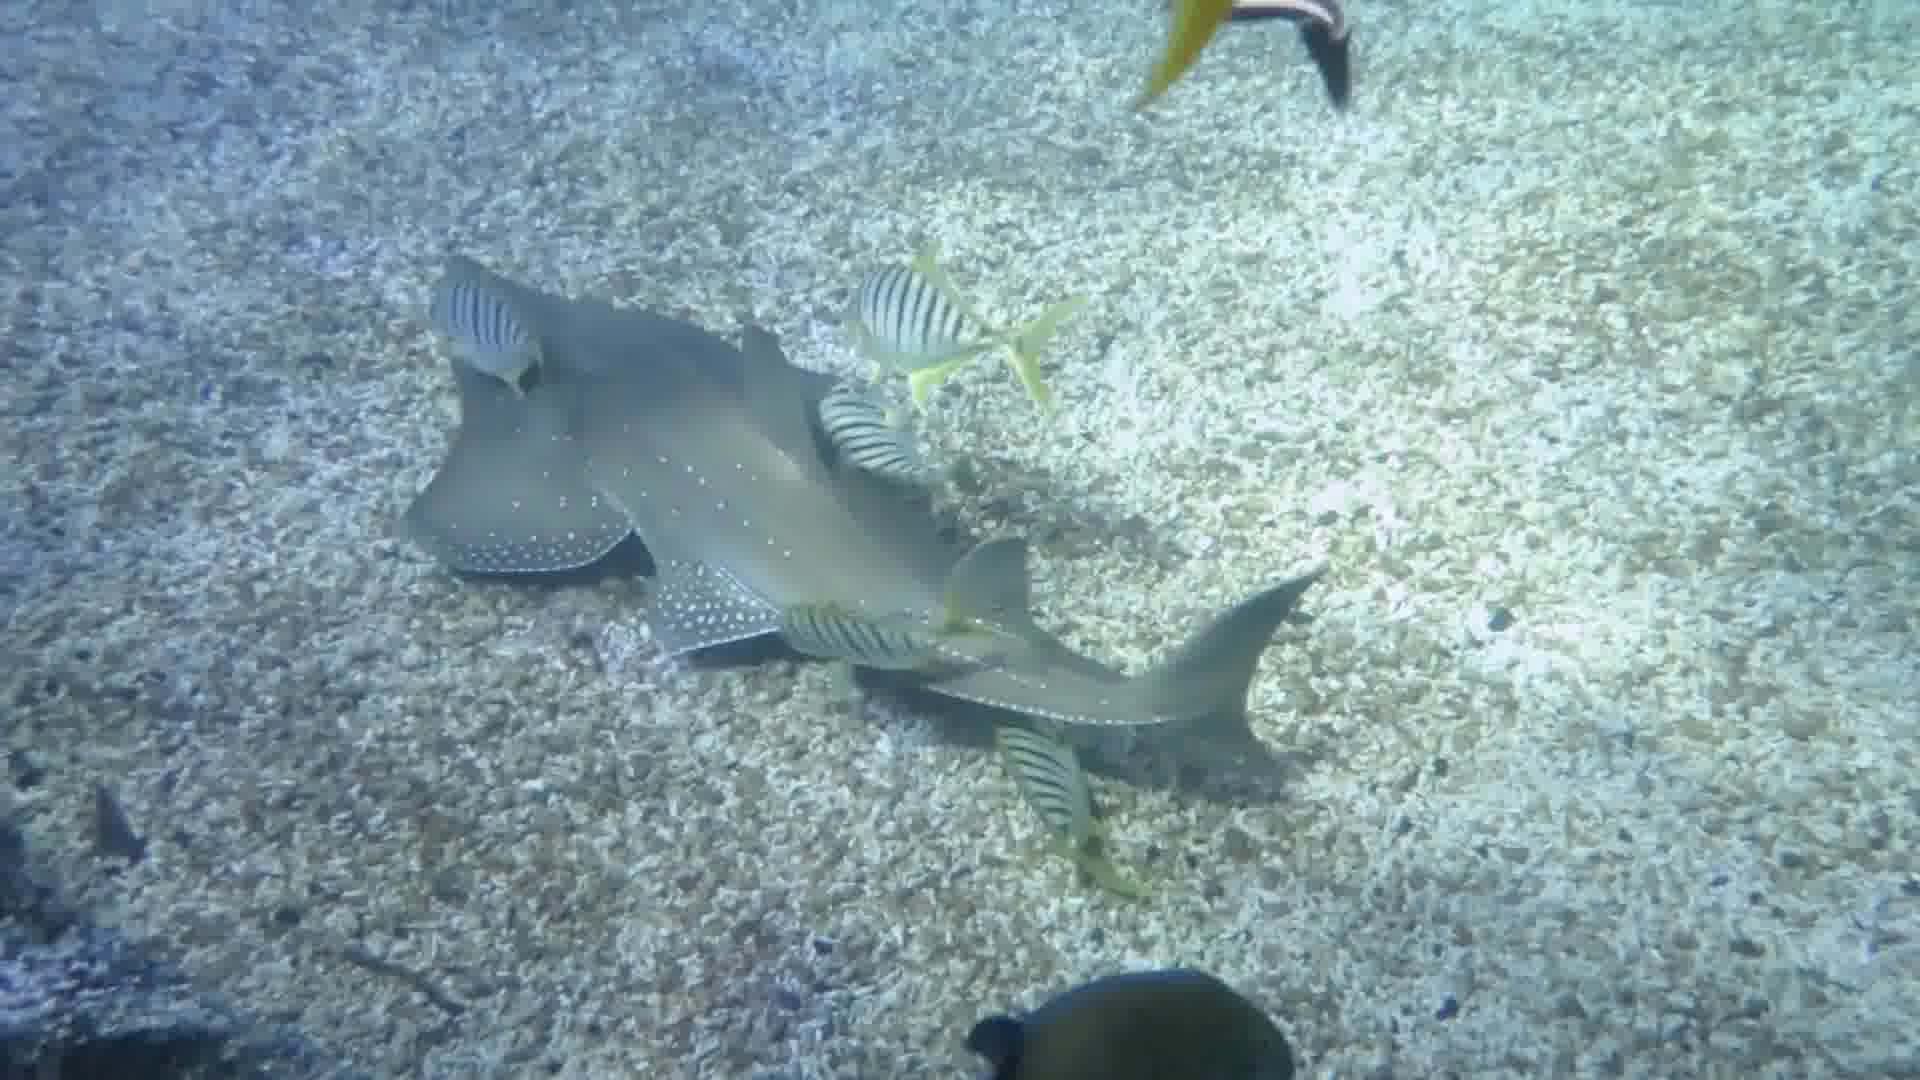Rhychobatus djiddensis: (386, 228, 1418, 791)
